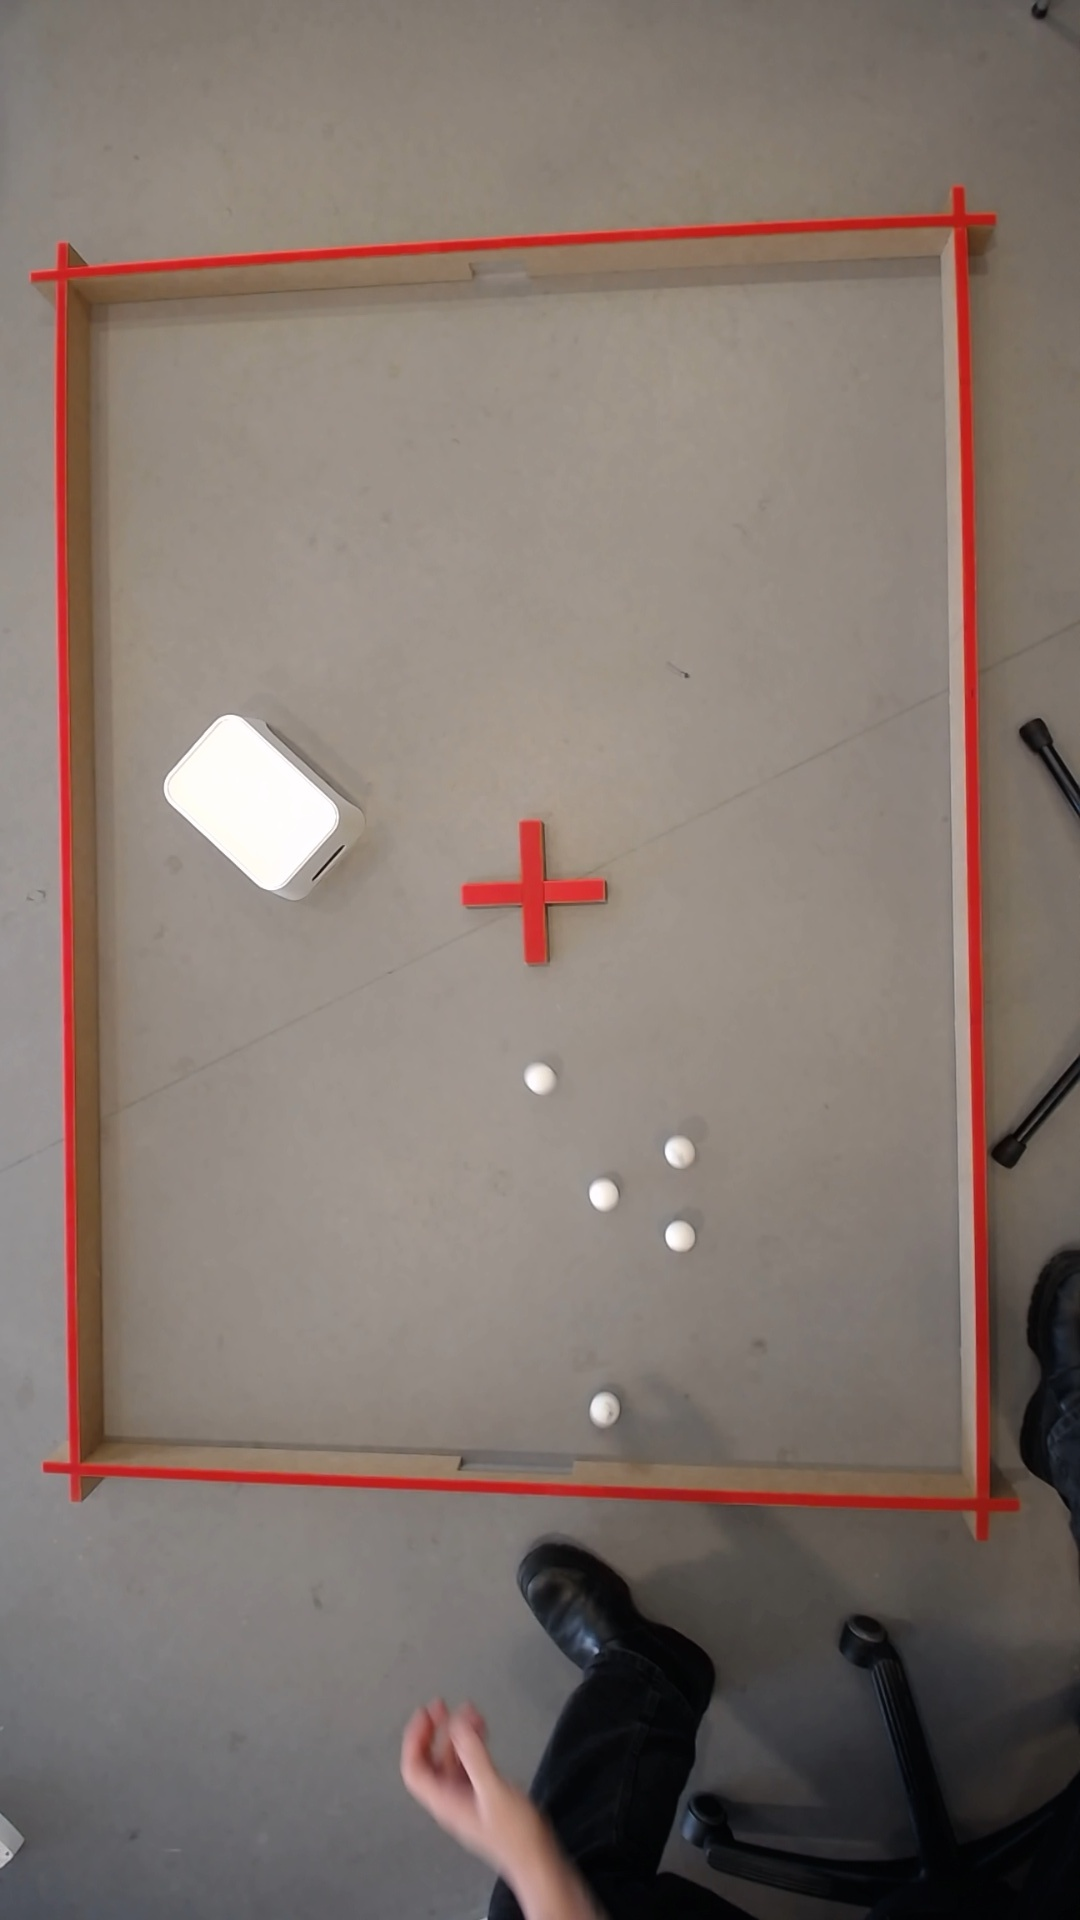balls: (150, 703, 348, 899), (520, 1059, 555, 1096), (659, 1218, 692, 1253), (658, 1133, 690, 1167), (588, 1182, 613, 1209), (589, 1395, 609, 1423)
car: (463, 1760, 491, 1817)
